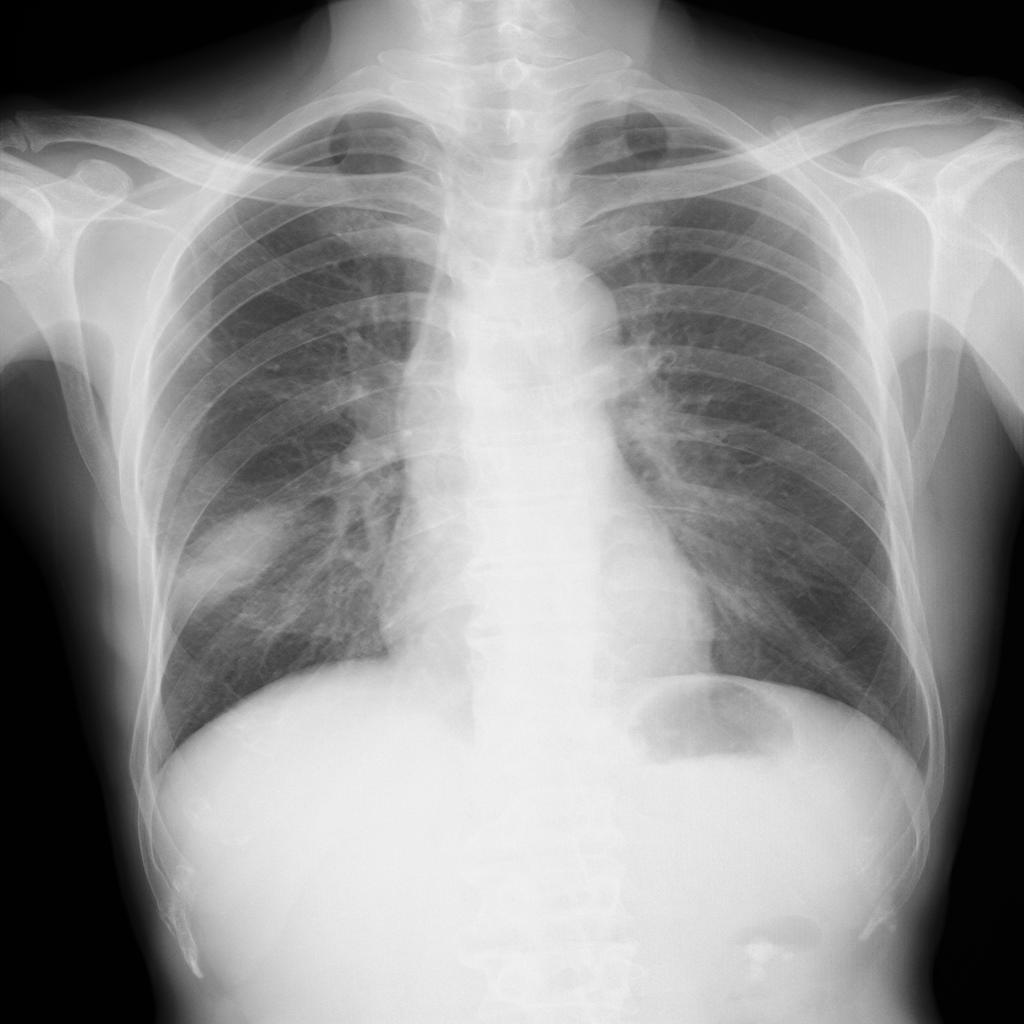Nodule: (167, 498, 290, 613)
